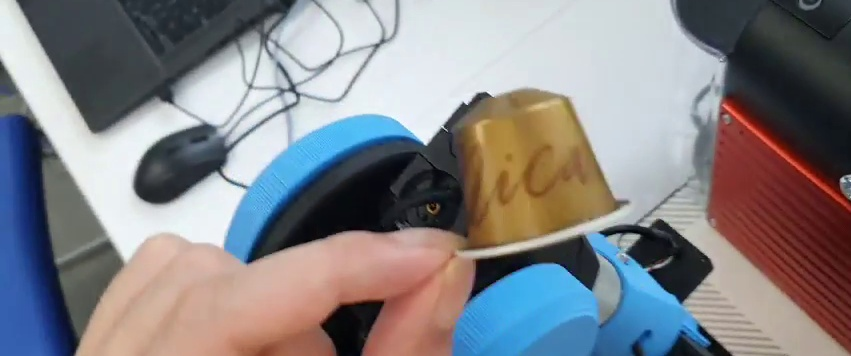capsule_9: (446, 87, 633, 261)
